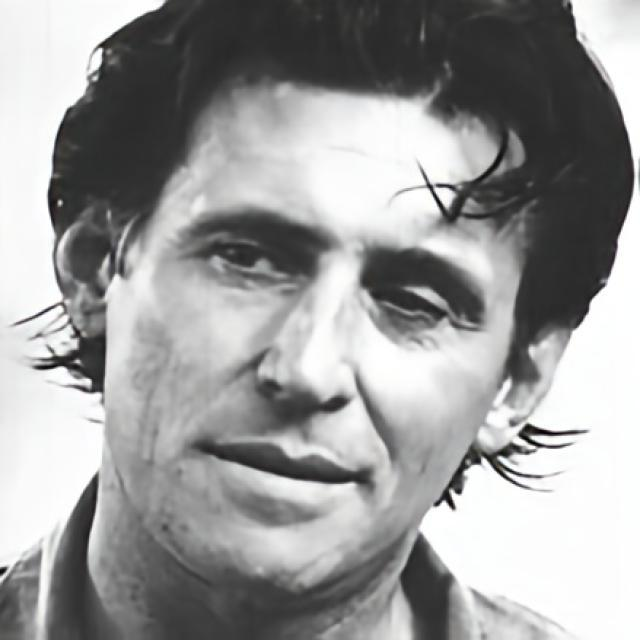content: (102, 80, 534, 604)
